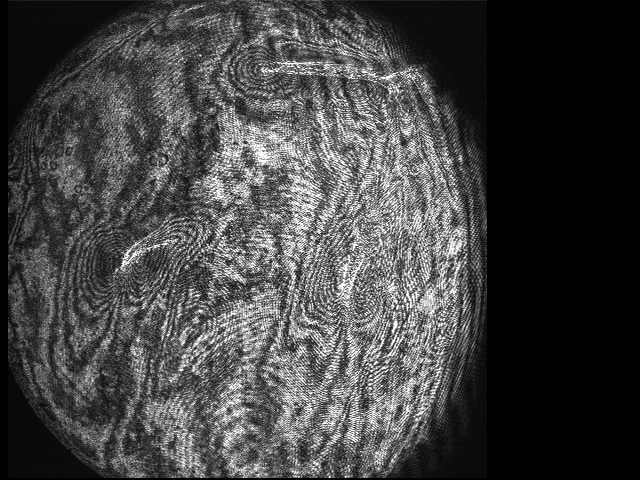plume: (70, 228, 197, 315)
